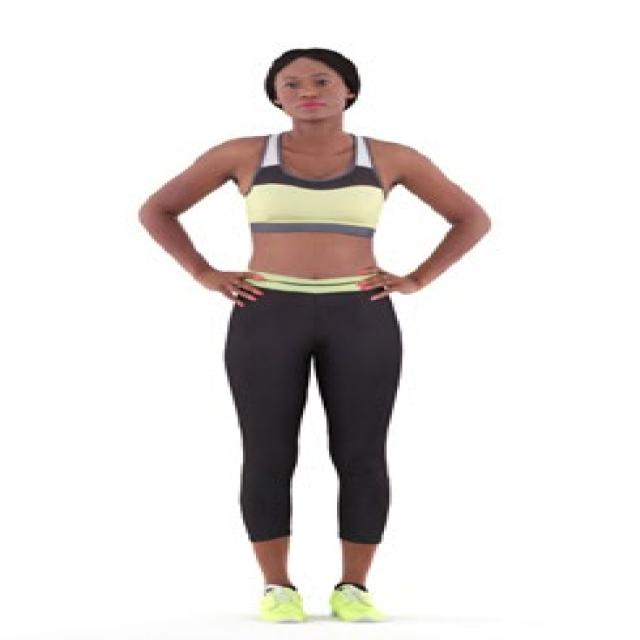standing: (130, 45, 490, 628)
